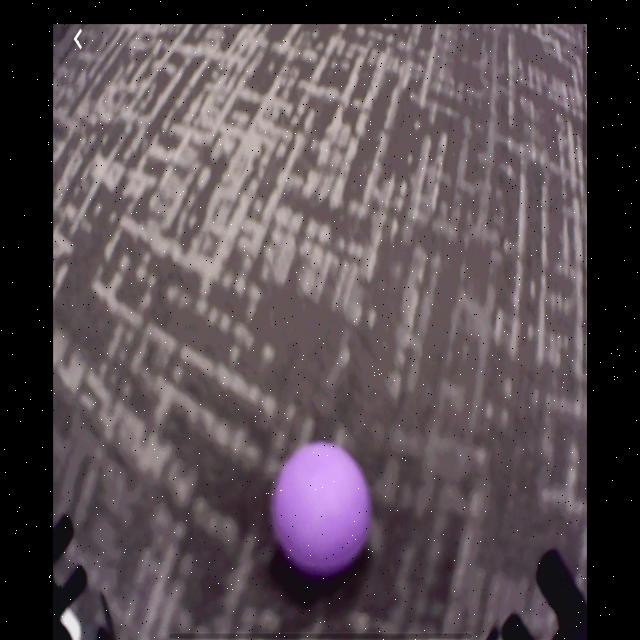ball: (274, 444, 375, 576)
